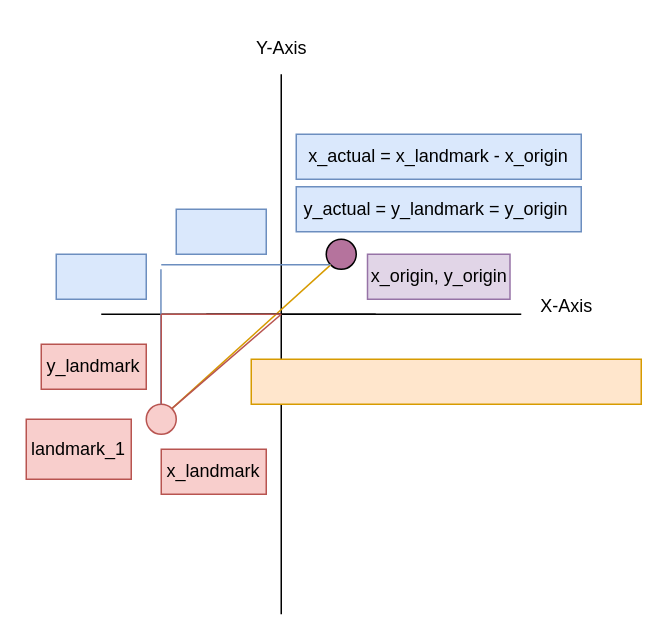
The diagram is 668 pixels wide and 642 high, and some of its shapes have lost their labels. Each missing label, with the centre of its shape:
"distance_landmark_1 = sqrt ( x^2 + y^2)" goes at [445,381].
"x_actual" goes at [220,231].
"y_actual" goes at [100,276].
